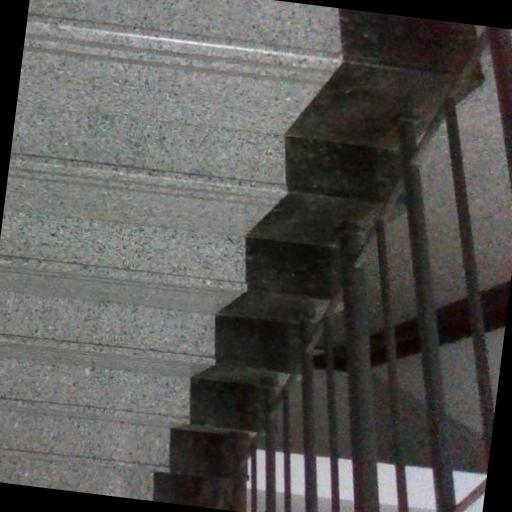stairs: (0, 0, 342, 500)
